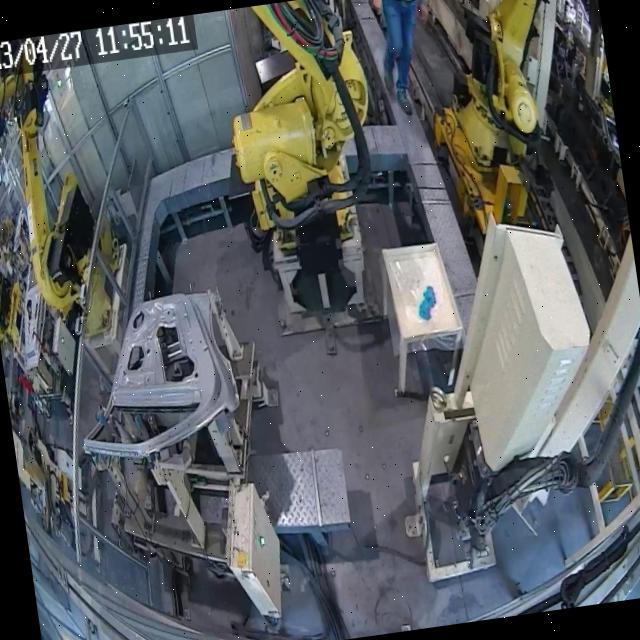Person: (370, 0, 445, 117)
